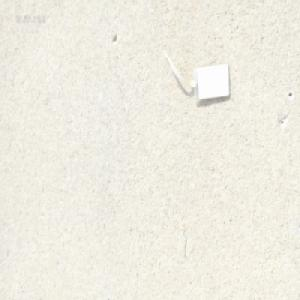LuggageTag: (157, 46, 229, 106)
